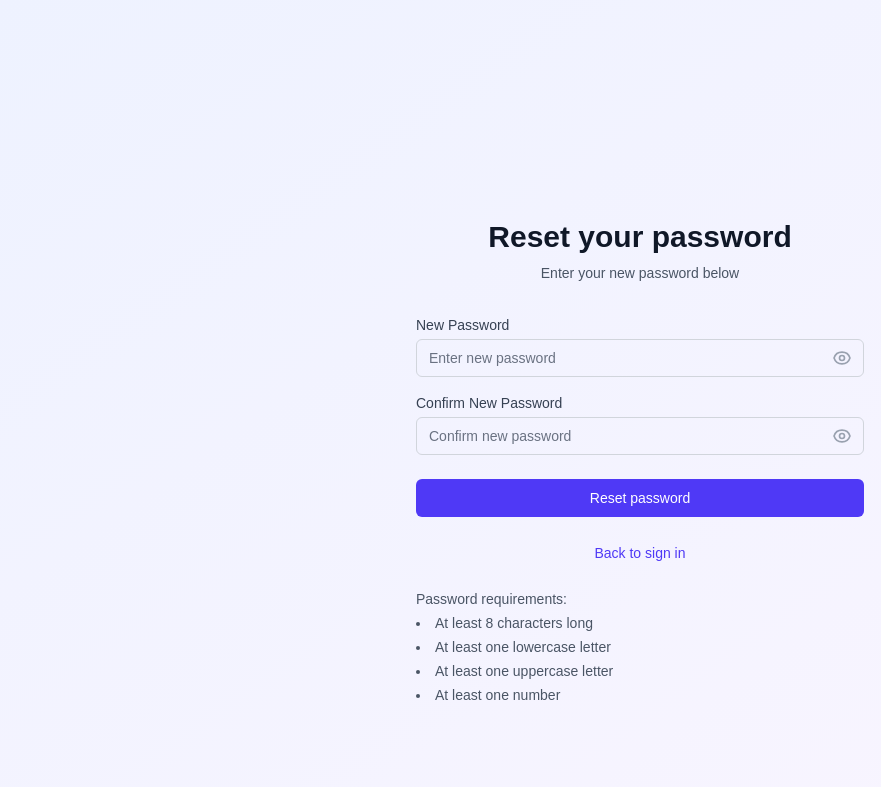
ResetPasswordForm › clears errors when form is resubmitted
// First submission with error
Type "StrongPassword123!" into the password field labelled "New Password". click: (640, 358)
box: x1=416 y1=339 x2=864 y2=377
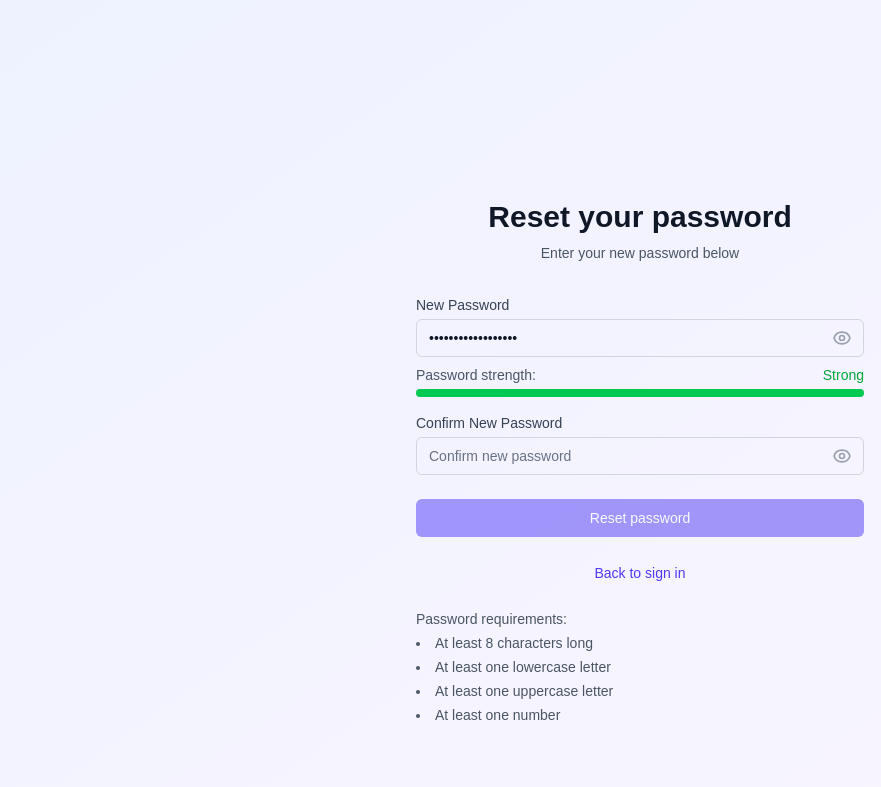
Type "StrongPassword123!" into the password field labelled "Confirm New Password". click: (640, 456)
box: x1=416 y1=437 x2=864 y2=475
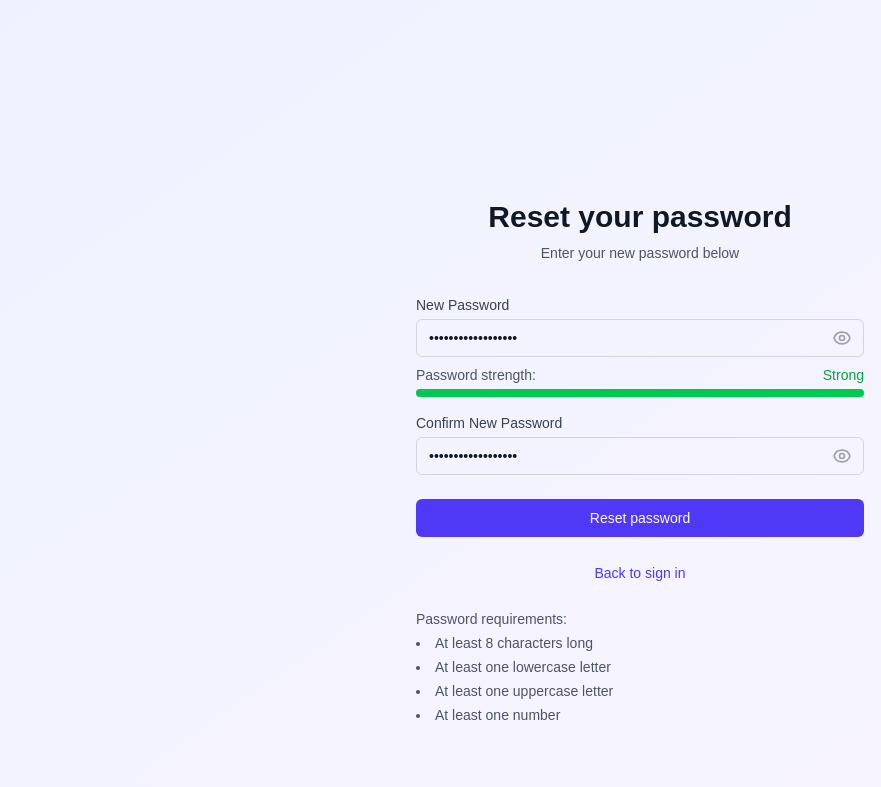
Click the button "Reset password". click: (640, 518)
box: x1=416 y1=499 x2=864 y2=537
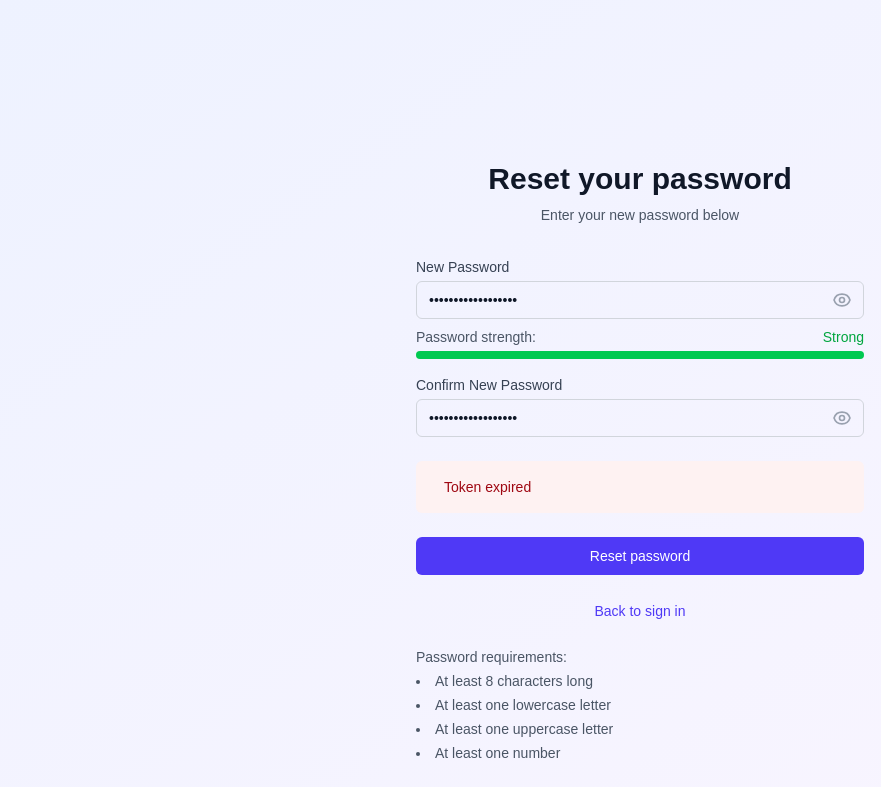
Result: the text "Token expired" is shown at x1=444 y1=477 x2=531 y2=497
// Second submission should clear the error
Click the button "Reset password". click: (640, 556)
box: x1=416 y1=537 x2=864 y2=575
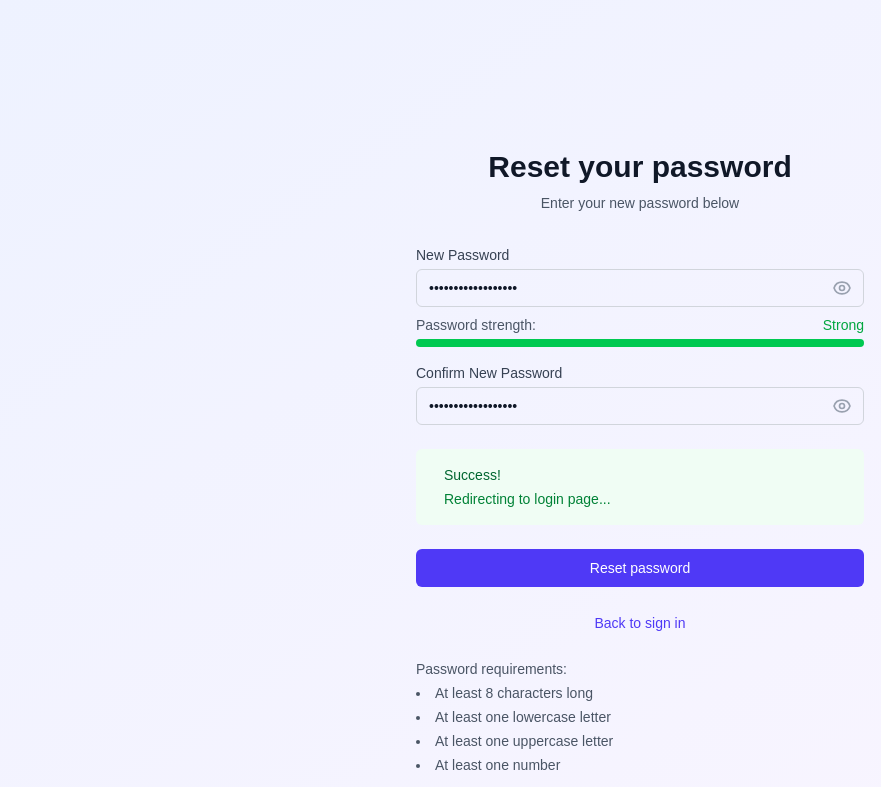
Result: the text "Token expired" is gone
Result: the text "Success!" is shown at x1=444 y1=467 x2=501 y2=483
